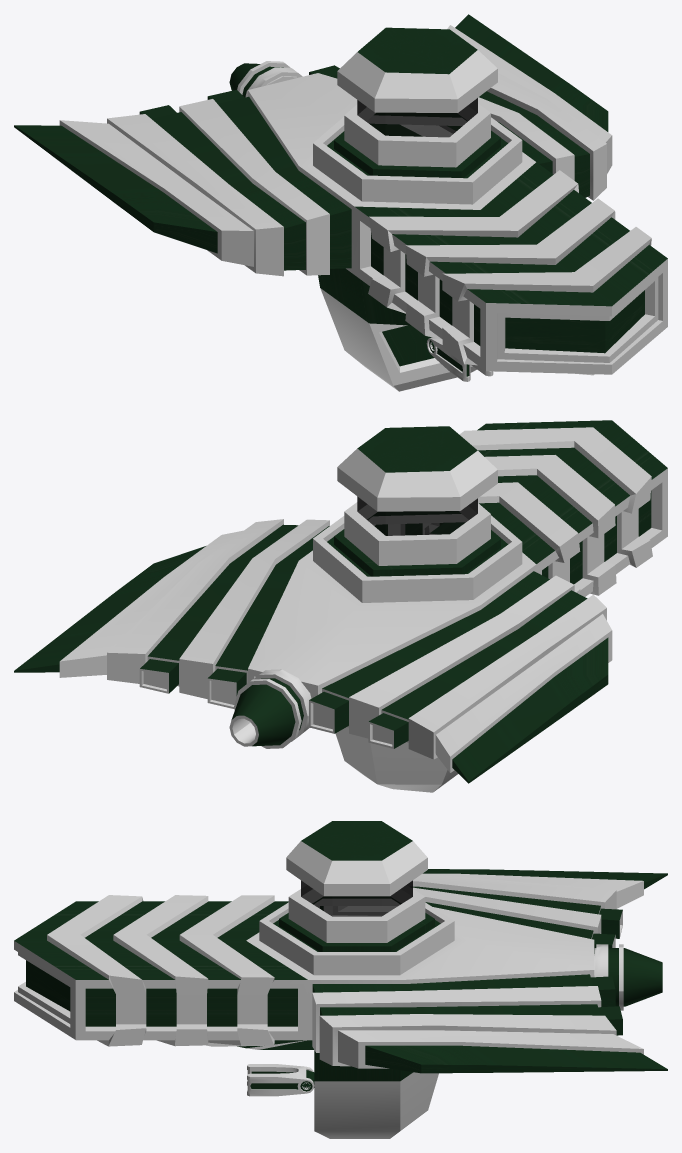
File: DCD.fbx
3 views of the same model, one above another, from view 1: azimuth 30°, elevation 25°; view 2: azimuth 150°, elevation 25°; view 3: azimuth 270°, elevation 25° (orthographic). The views are drawn at different scales.
Visible parts, largest first — view 1: DCD; view 2: DCD; view 3: DCD.
Part boxes in pixels (x1,y1,x2,y2): DCD: [14, 14, 667, 391]; DCD: [14, 420, 667, 792]; DCD: [14, 821, 667, 1138].
Size of the model in its own units: 6.01 by 4.06 by 8.49.
